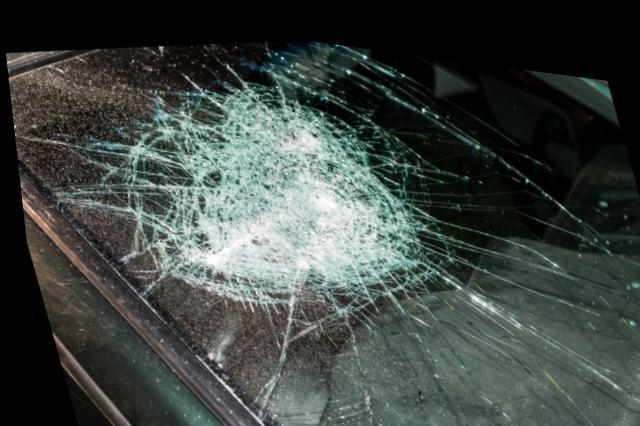glass shatter: (7, 32, 640, 426)
